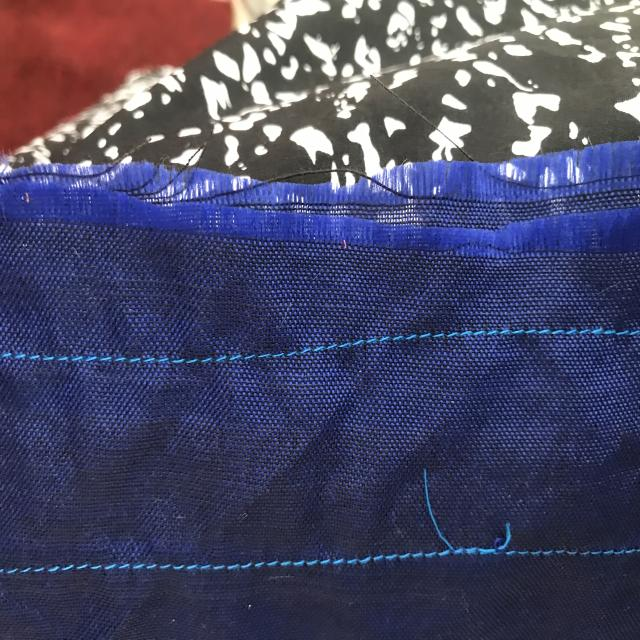good: (428, 311, 607, 357), (49, 552, 414, 574), (34, 341, 174, 390), (535, 538, 617, 574), (206, 346, 316, 365)
